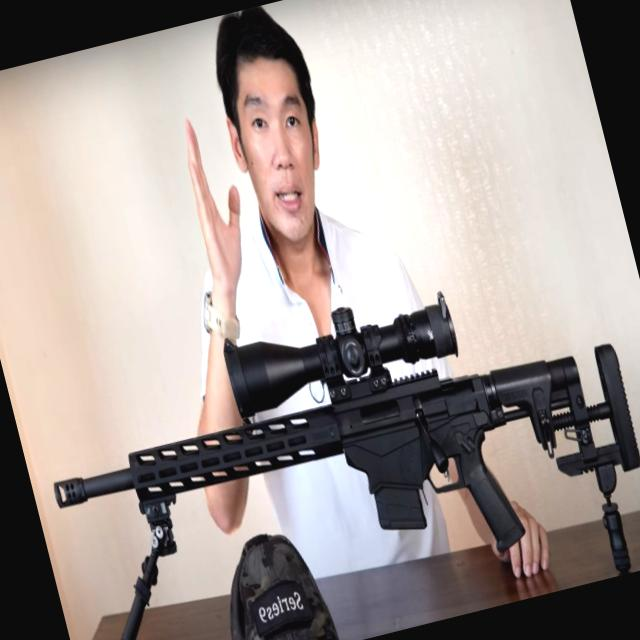rifle: (22, 237, 640, 640)
